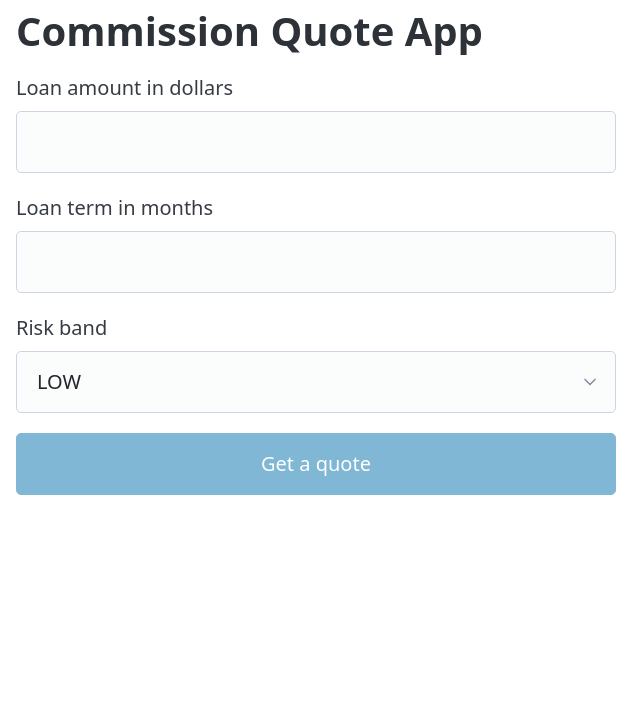
it: the page after a quote request finishes › keeps the request id off screen and out of the console when a quote comes back
The width and height of the screenshot is (633, 706).
Type "5000" into the number field labelled "Loan amount in dollars" at (316, 142), box [16,110,616,173]
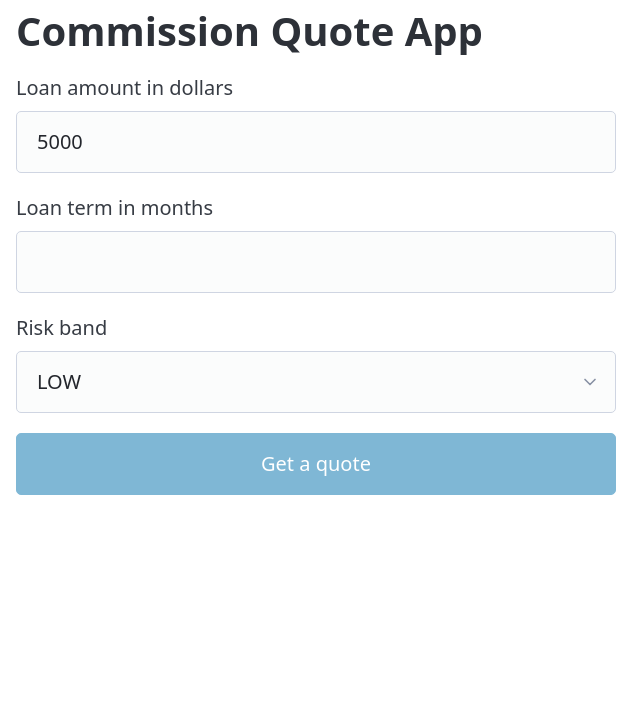
Type "24" into the number field labelled "Loan term in months" at (316, 262), box [16,230,616,293]
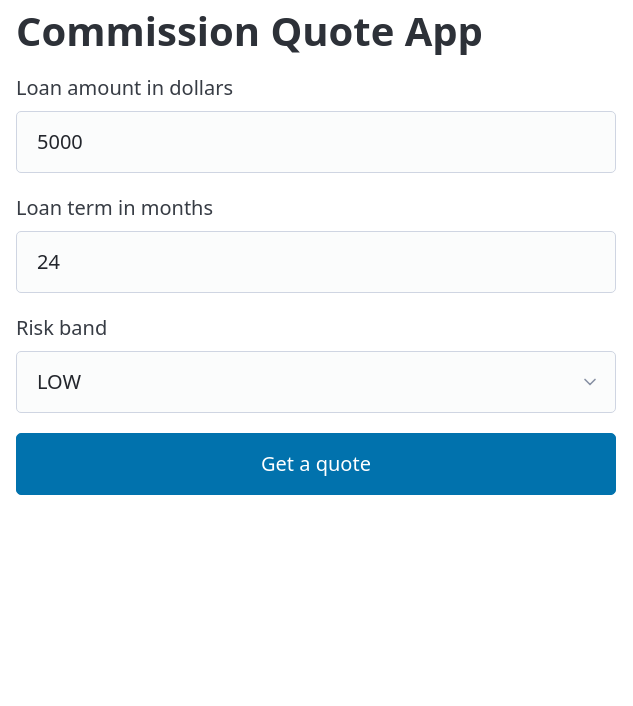
Select "MEDIUM" in the dropdown labelled "Risk band" at (316, 382), box [16,350,616,412]
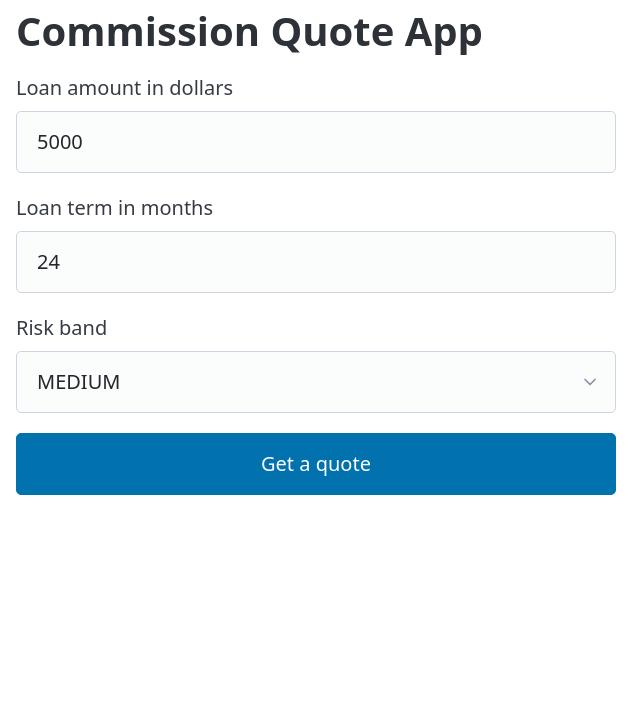
Click the button "Get a quote" at (316, 464), box [16,432,616,494]
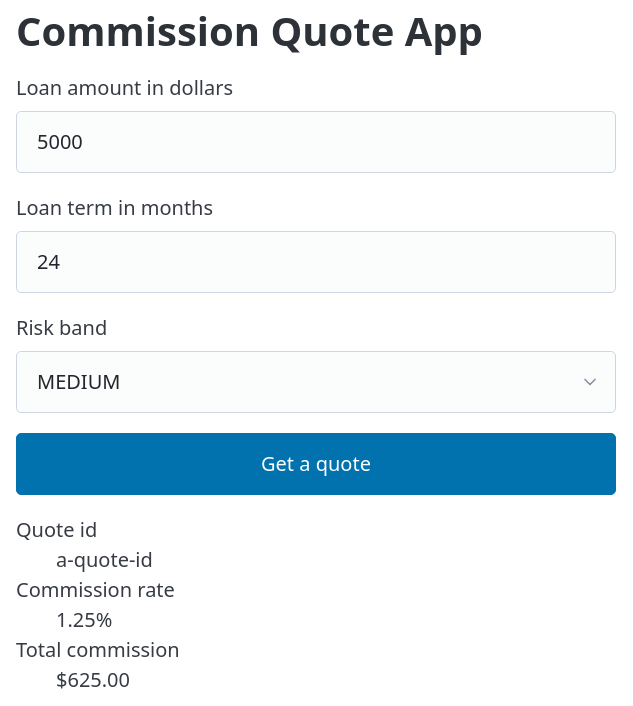
Result: the text "a-quote-id" is shown at [56,546,153,572]
